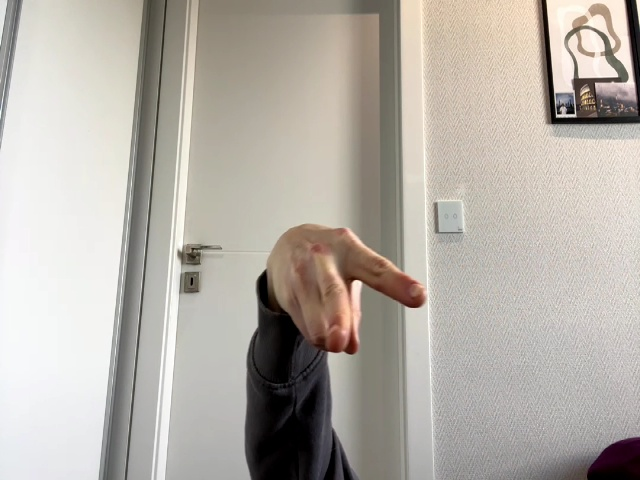U: (267, 223, 426, 355)
